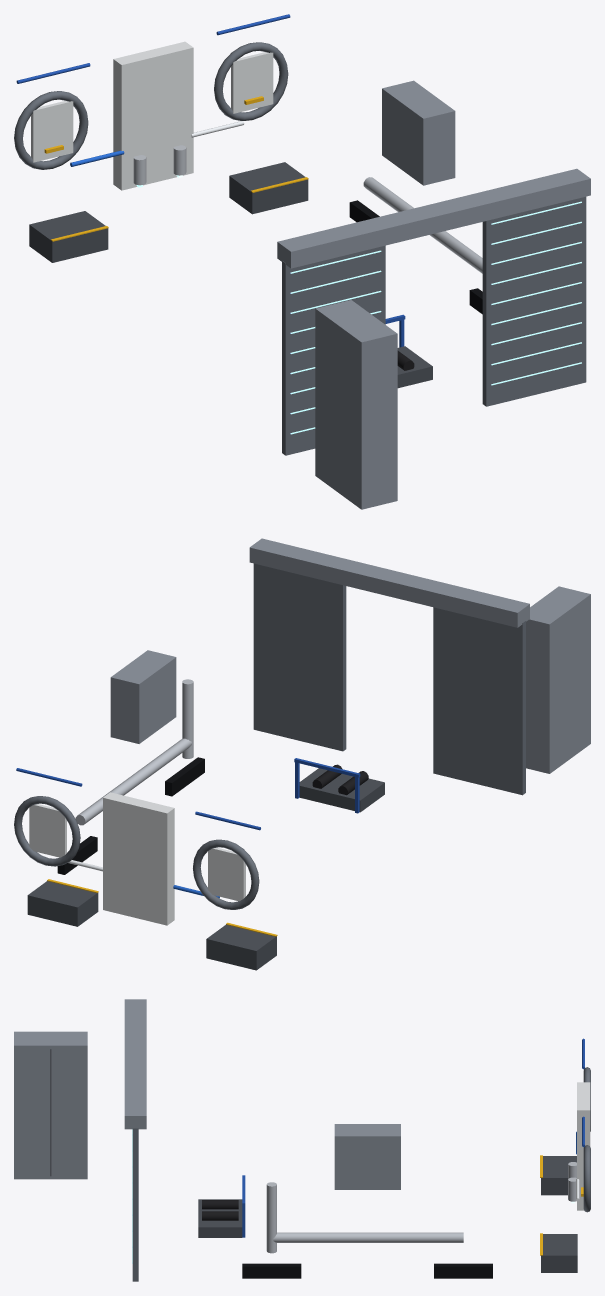
The model's file is dust_decontamination_airlock.glb.
3 renders of one model, top to bottom at view 1: azimuth 30°, elevation 25°; view 2: azimuth 150°, elevation 25°; view 3: azimuth 270°, elevation 25°, orthographic. The views are drawn at different scales.
Visible parts, largest first — view 1: frame, curtain_glow; view 2: frame; view 3: frame.
Boxes of the visible parts, x1,y1,x2,y2 form: frame: [14, 14, 590, 509]; curtain_glow: [290, 201, 581, 434]; frame: [14, 538, 590, 970]; frame: [14, 999, 590, 1281].
Bounding box in the file's own units: 3.76 × 2.48 × 7.83.
Materials: 4 (4 with a texture image).
